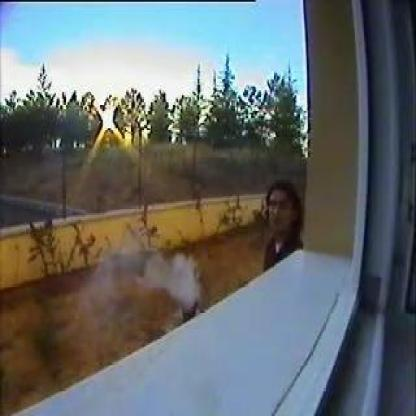-: (145, 265, 198, 305)
